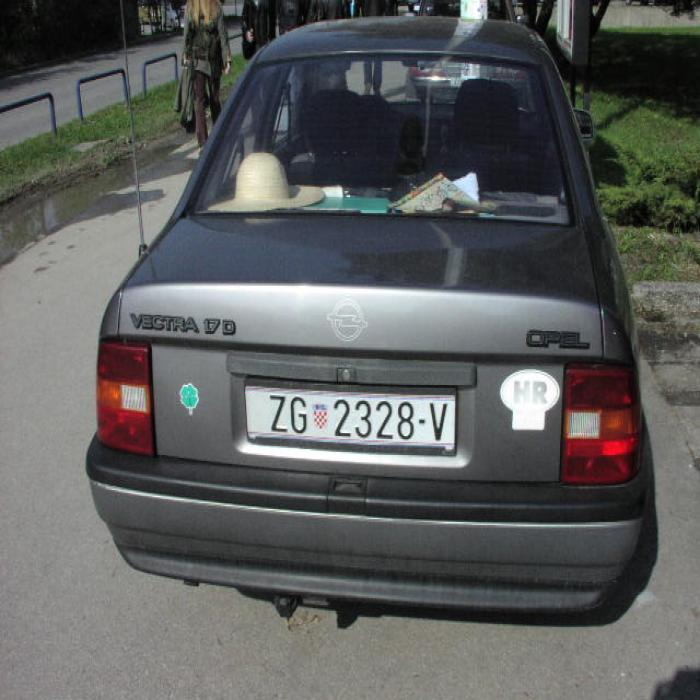number_plate: (244, 389, 454, 445)
